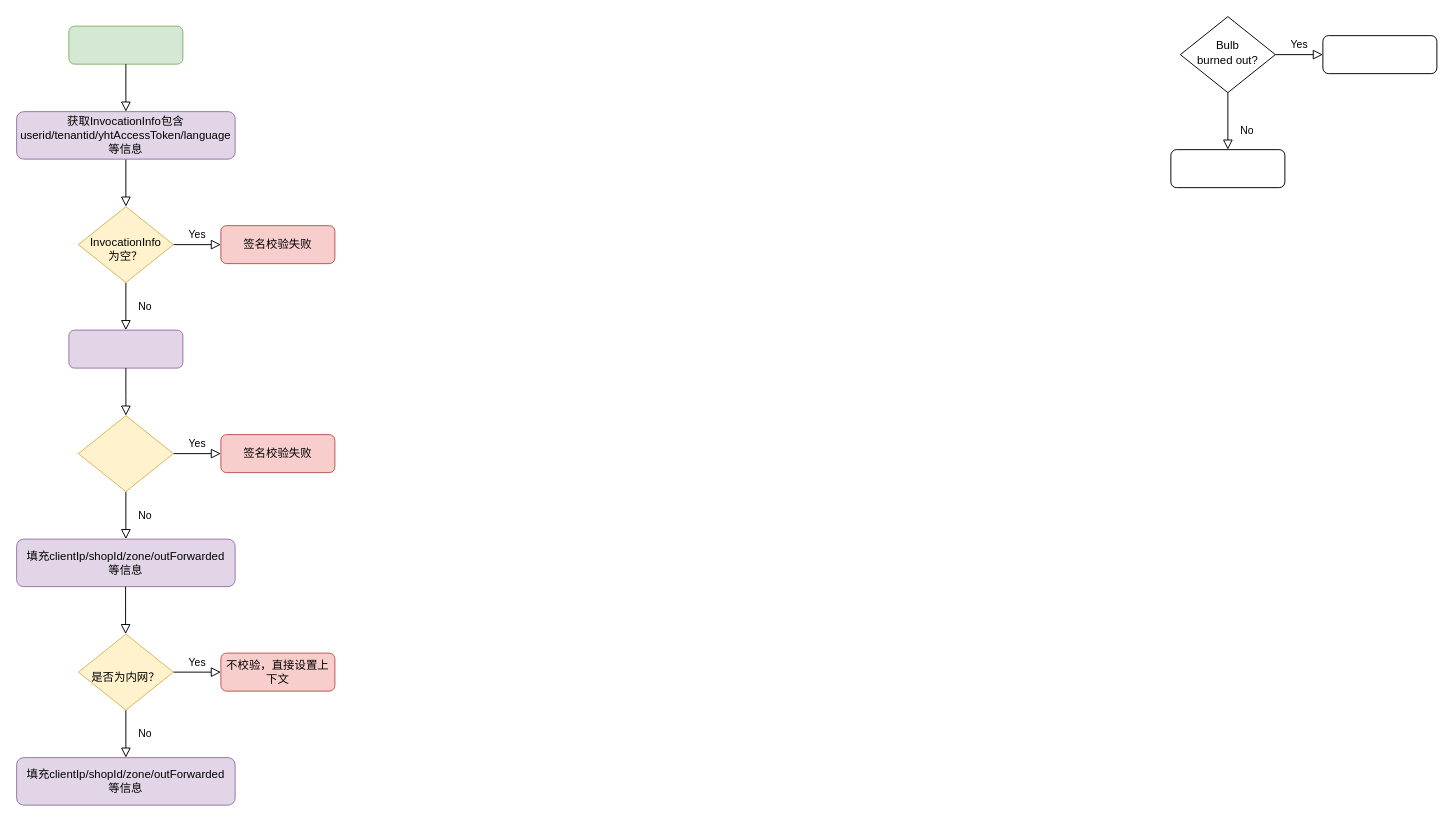
This 1454x822 diagram has some shape labels left out. The box of each missing label's shape, as (x1, y1, x2, y2) in pixels:
Repair Lamp: (1170, 149, 1285, 188)
Replace Bulb: (1322, 35, 1437, 74)
SessionId 为空？: (77, 415, 173, 492)
开始: (68, 25, 183, 64)
获取SessionId: (68, 329, 183, 368)
